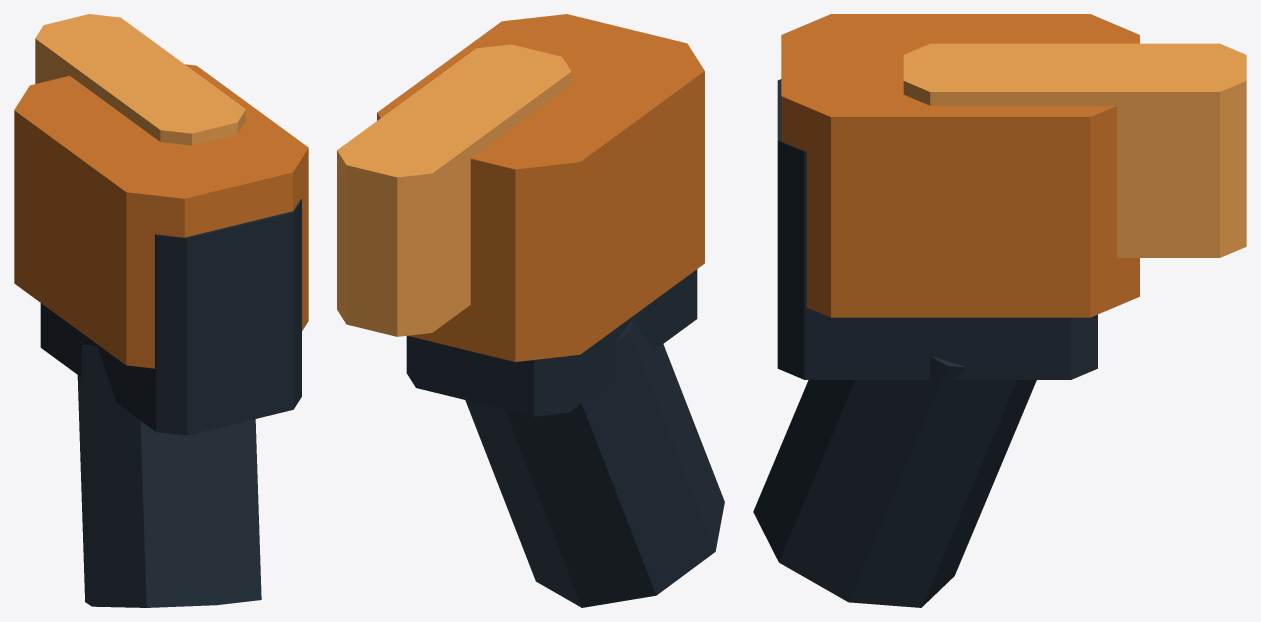
File: enemy_runner_lod_upper_arm_l.obj
3 renders of one model, left to right at view 1: azimuth 30°, elevation 25°; view 2: azimuth 150°, elevation 25°; view 3: azimuth 270°, elevation 25°, orthographic. The views are drawn at different scales.
Bounding box in the file's own units: 0.3584 × 0.7869 × 0.6471.
